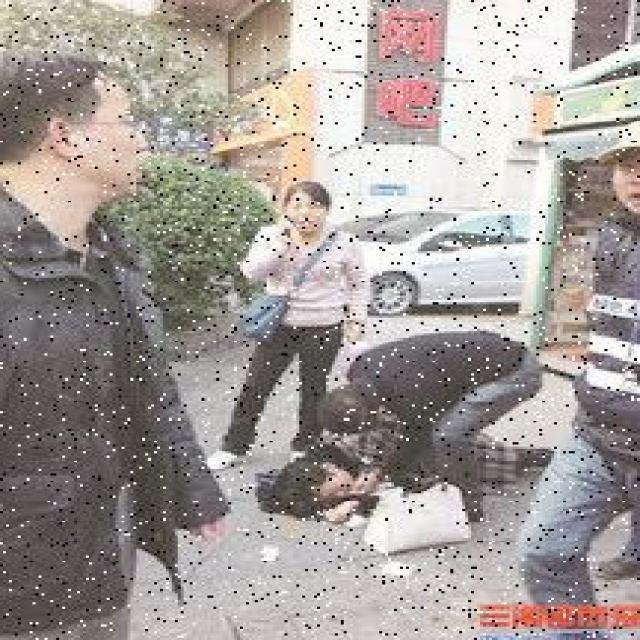fall: (261, 422, 545, 514)
